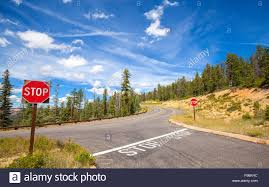stop: (18, 80, 49, 102), (189, 98, 197, 107)
strada: (77, 124, 263, 172)
